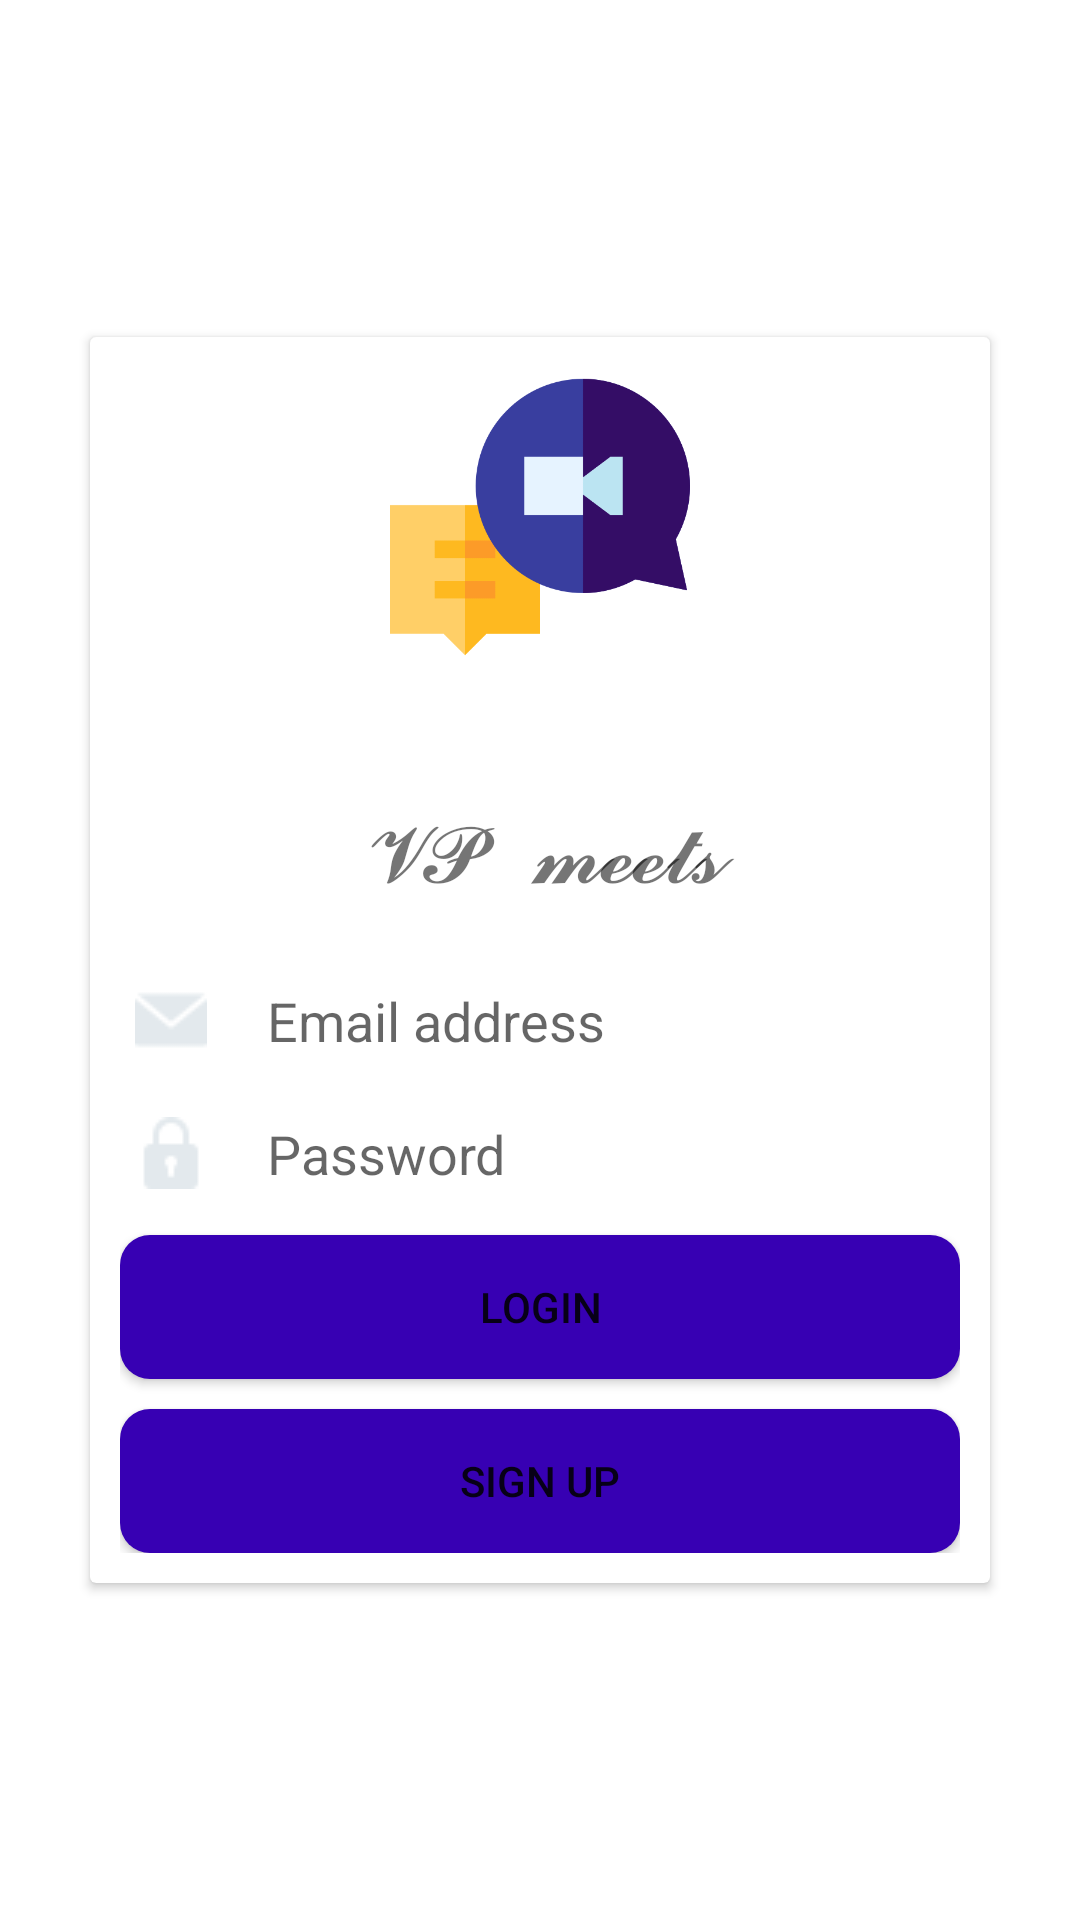

Icon click points for this 1080px x 1920px phone screenshot, format (x=x, y=y):
meeting: (x=540, y=516)
